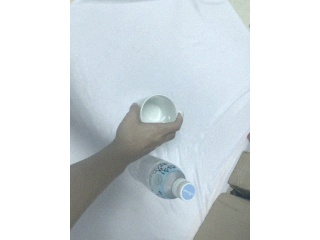bottle: (128, 154, 196, 202)
cup: (137, 95, 177, 123)
